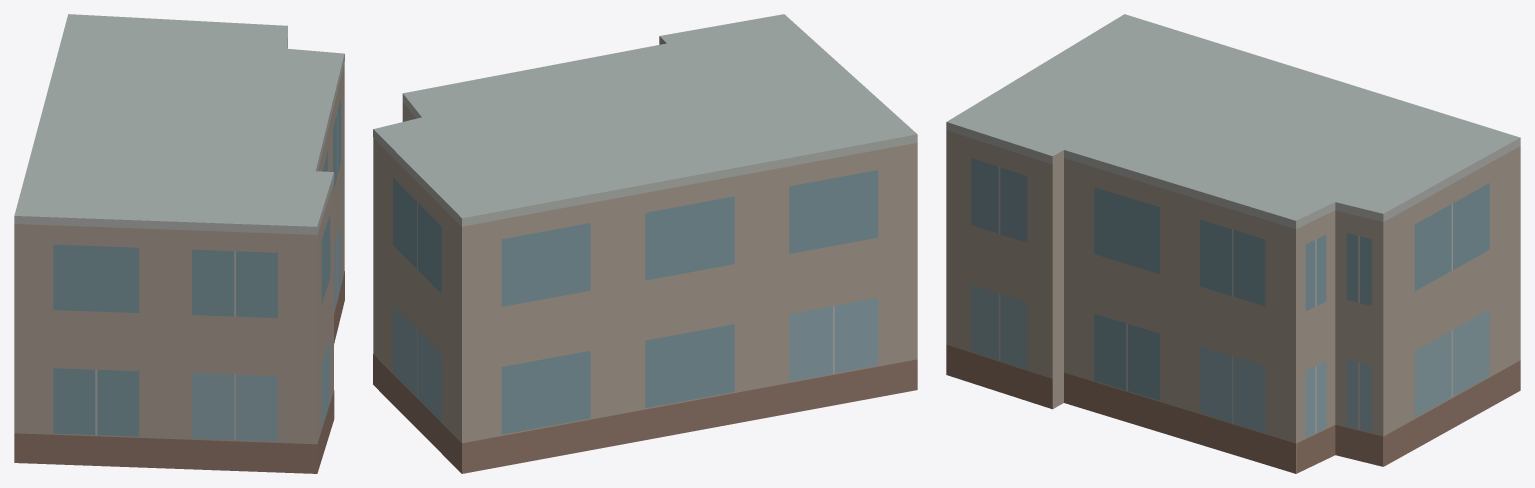
The model's file is survey-upis-32628056.glb.
The picture shows the model from 3 angles, left to right: view 1: azimuth 30°, elevation 25°; view 2: azimuth 150°, elevation 25°; view 3: azimuth 270°, elevation 25°; orthographic projection. The views are drawn at different scales.
Parts seen in each view (by area): view 1: survey-upis-32628056.tmp; view 2: survey-upis-32628056.tmp; view 3: survey-upis-32628056.tmp.
Part boxes in pixels (box(x1,y1,x2,y2)): survey-upis-32628056.tmp: box(14, 14, 344, 473); survey-upis-32628056.tmp: box(373, 14, 917, 473); survey-upis-32628056.tmp: box(946, 14, 1520, 473).
Bounding box in the file's own units: 13.17 × 7.5 × 15.43.
